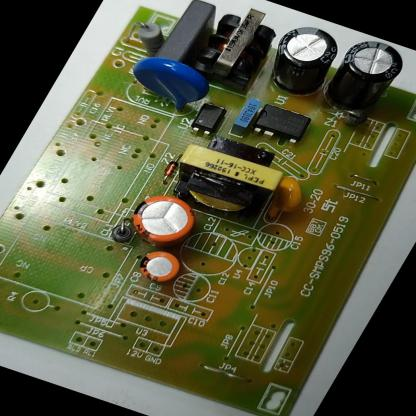Cap1: (121, 186, 205, 250)
Cap2: (132, 245, 186, 287)
Cap3: (254, 17, 351, 102)
Cap4: (317, 33, 412, 120)
MOSFET: (247, 100, 316, 147)
Mov: (116, 48, 220, 120)
Resistor: (126, 15, 172, 54)
Transformer: (158, 127, 296, 226), (189, 0, 287, 88)
